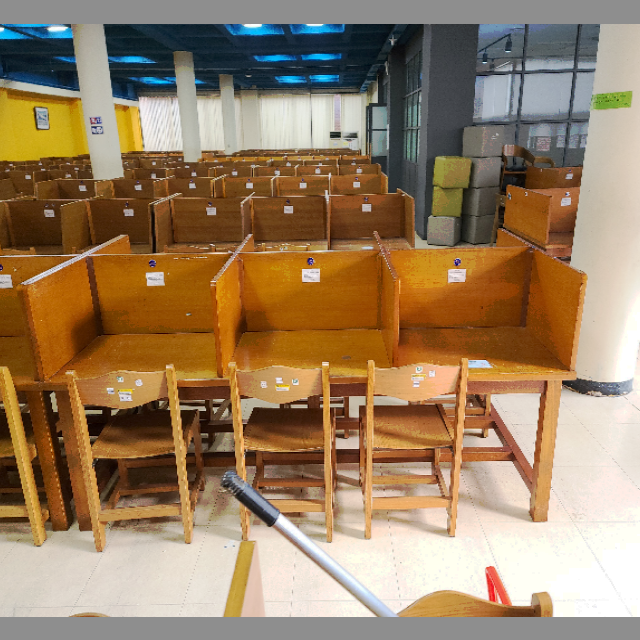empty: (225, 230, 400, 454), (41, 237, 220, 454), (406, 238, 580, 449)
